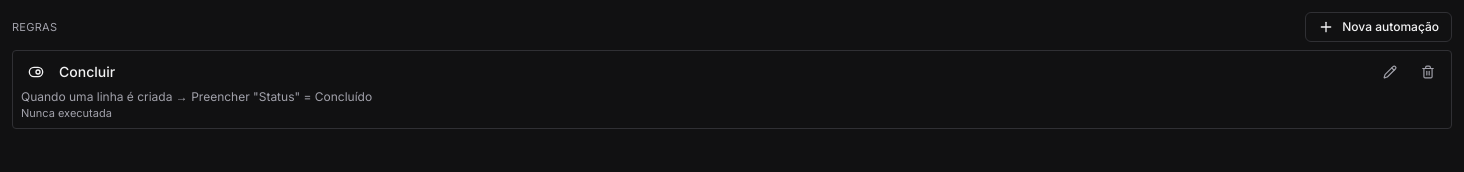
Test: AutomationsPanel › exclui uma automação
Click the button named "Excluir automação Concluir" at (1428, 72), box [1413,57,1443,87]
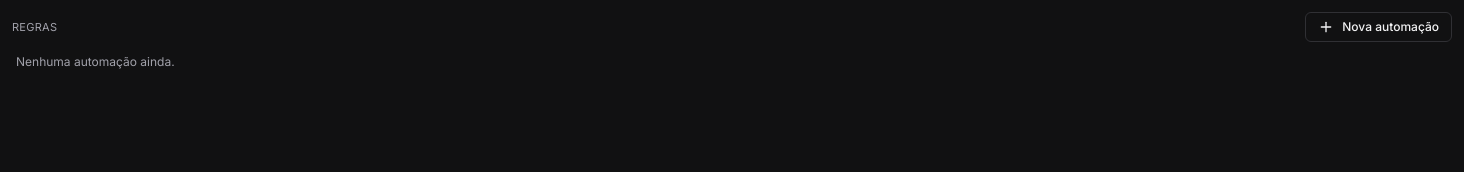
Check: the text "Concluir" is gone
